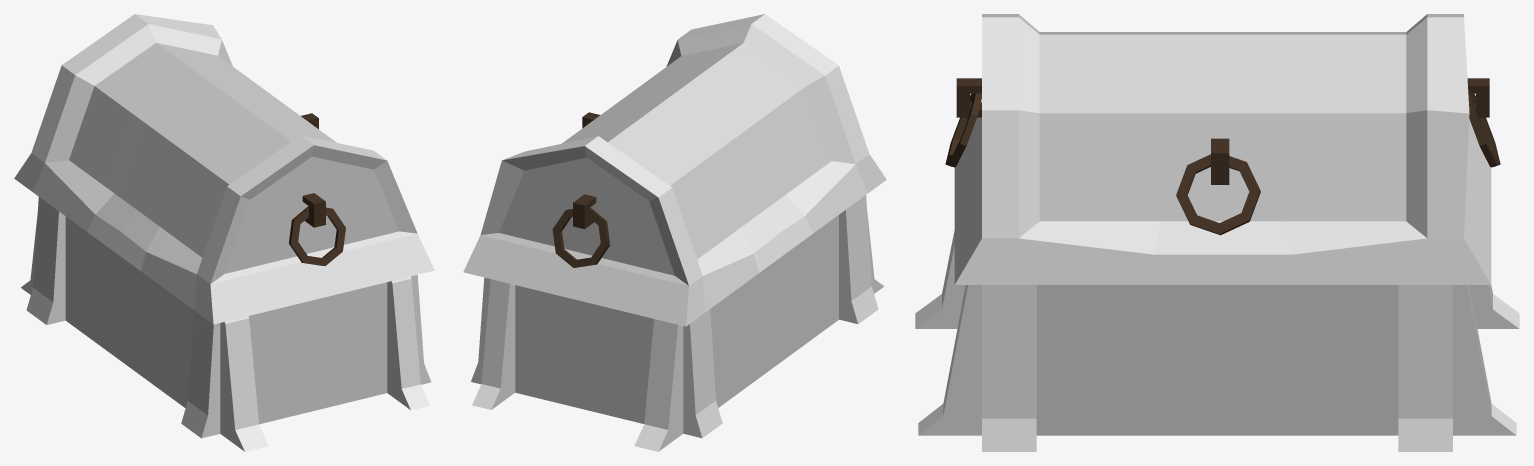
Rendered from chest 2.fbx.
The picture shows the model from 3 angles, left to right: view 1: azimuth 30°, elevation 25°; view 2: azimuth 150°, elevation 25°; view 3: azimuth 270°, elevation 25°; orthographic projection. The views are drawn at different scales.
Parts seen in each view (by area): view 1: Cube.006; view 2: Cube.006; view 3: Cube.006.
Boxes of the visible parts, x1=… form: Cube.006: x1=14, y1=14, x2=434, y2=451; Cube.006: x1=463, y1=14, x2=886, y2=451; Cube.006: x1=915, y1=14, x2=1519, y2=451.
Size of the model in its own units: 152 by 168 by 257.
